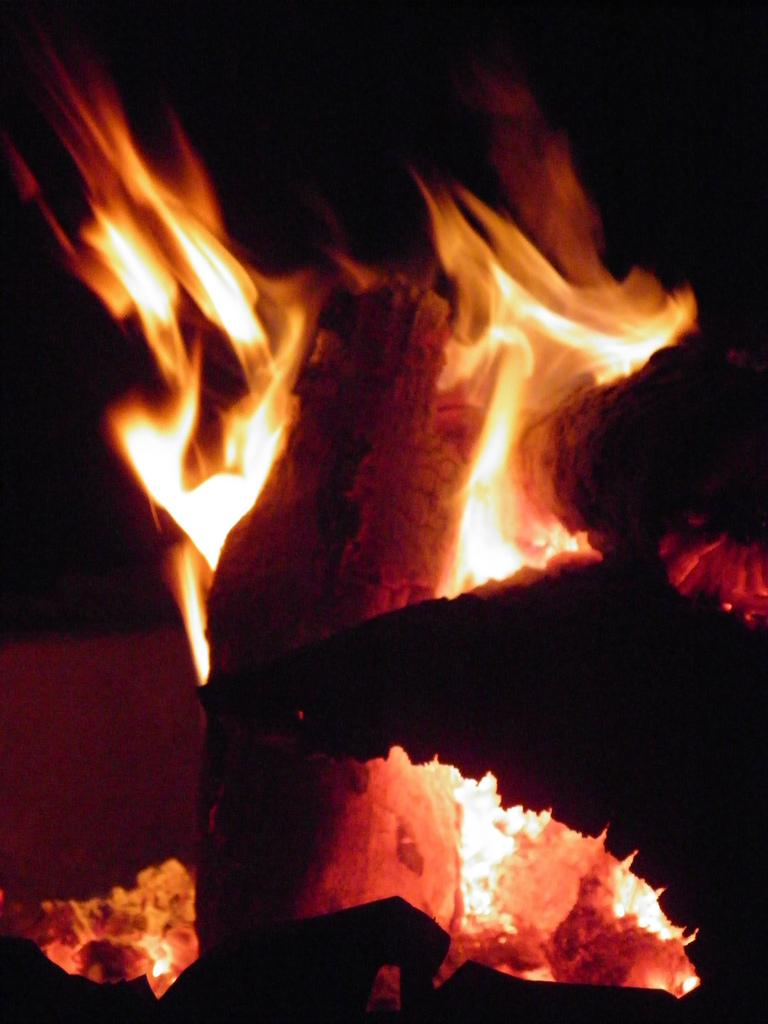fire: (465, 238, 592, 565), (88, 195, 225, 335), (150, 408, 265, 530), (460, 792, 538, 925)
